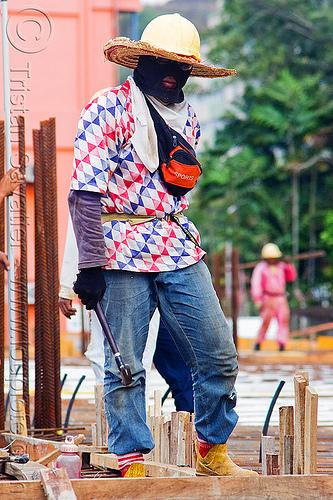helmet: (138, 14, 205, 65), (260, 244, 283, 264)
